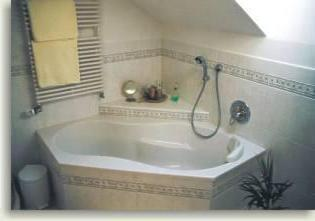Bote de Basura: (16, 164, 49, 207)
